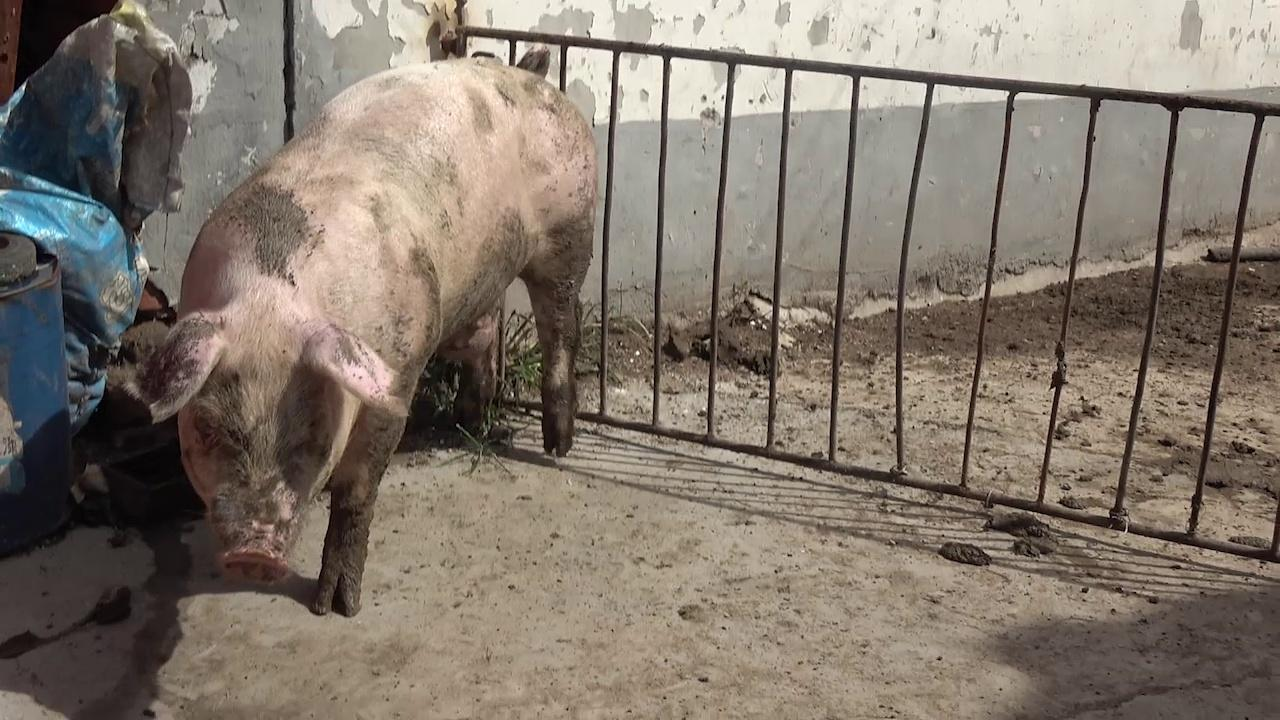Face: (140, 296, 402, 594)
